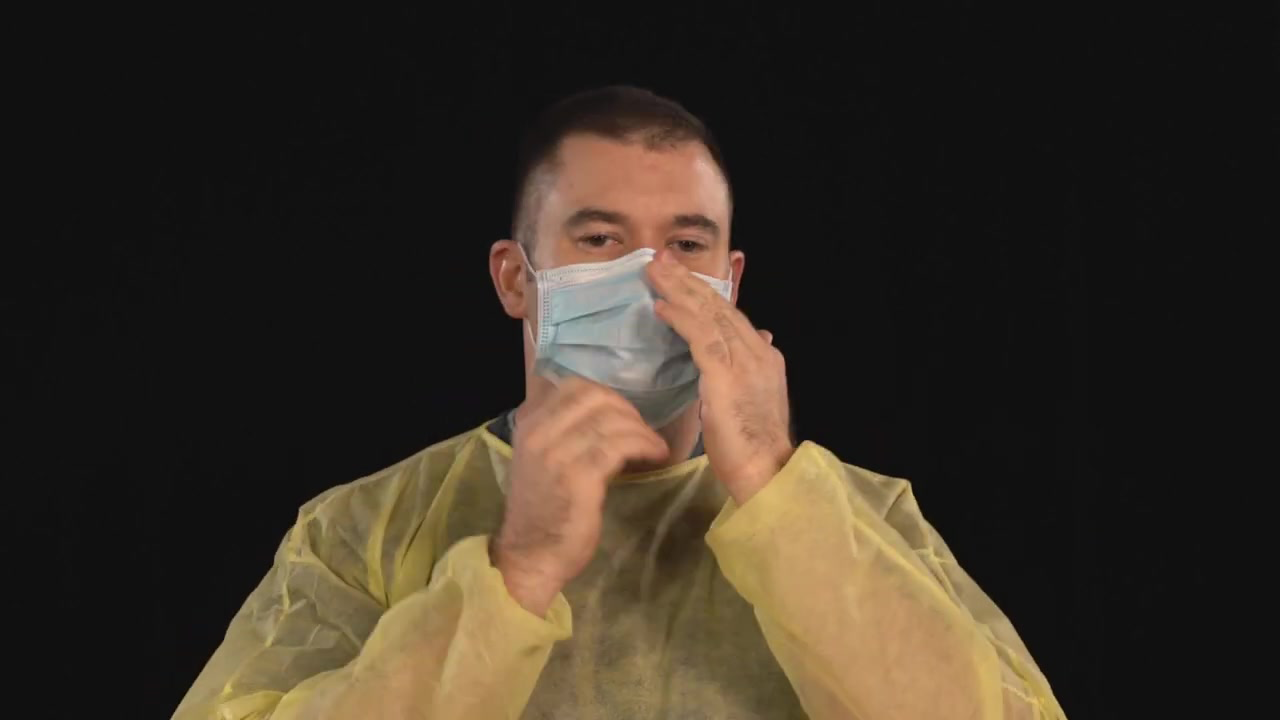Coverall: (194, 399, 1074, 720)
with_mask: (524, 241, 746, 425)
